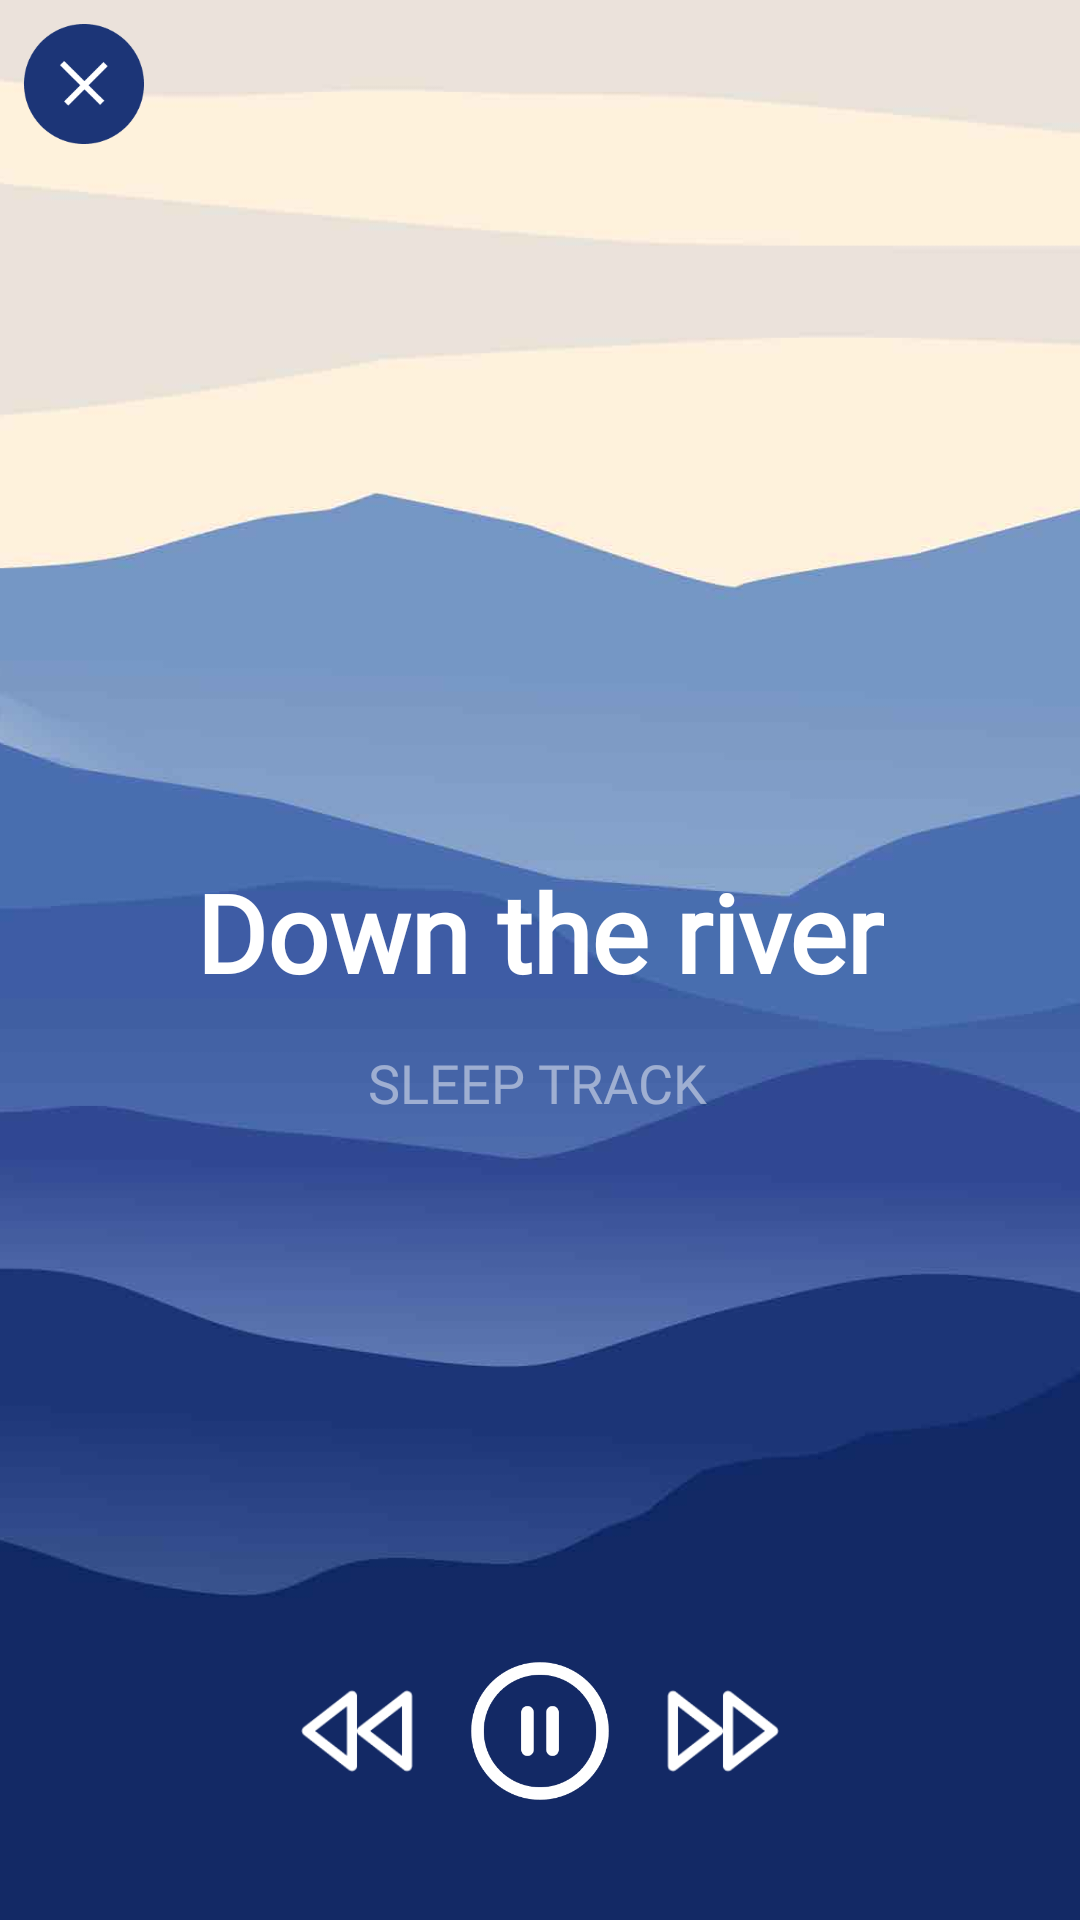

Named icons in this screenshot (1080 × 1920) and their centers, (x=x, y=y):
close: (x=84, y=84)
next: (x=723, y=1731)
pause: (x=540, y=1731)
prev: (x=357, y=1731)
